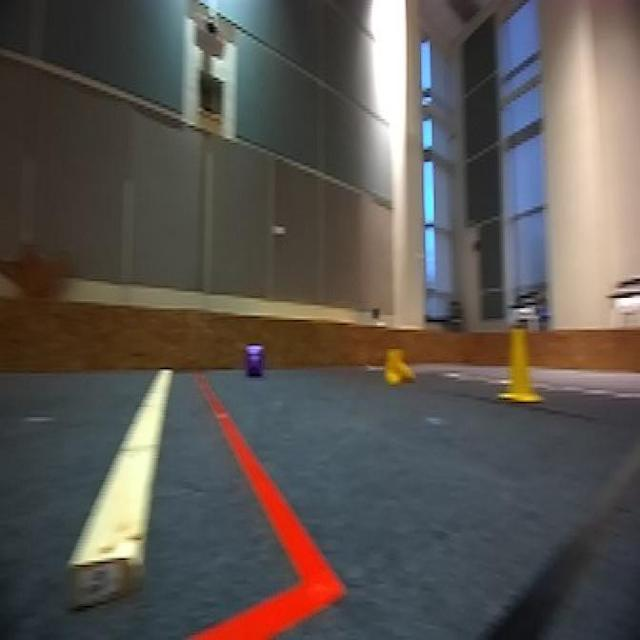frc_cone: (496, 322, 542, 407), (380, 344, 418, 386)
frc_cube: (244, 344, 264, 379)
